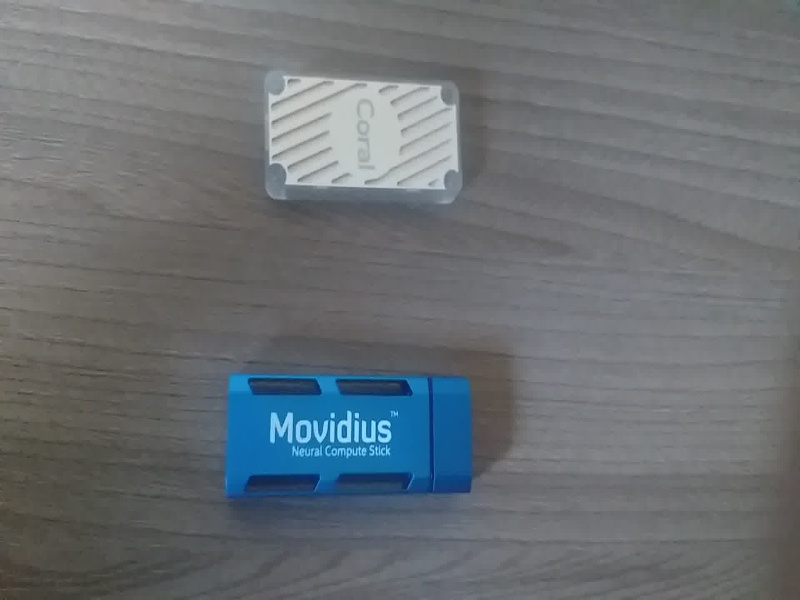coral: (257, 60, 482, 233)
movidius: (218, 361, 482, 514)
